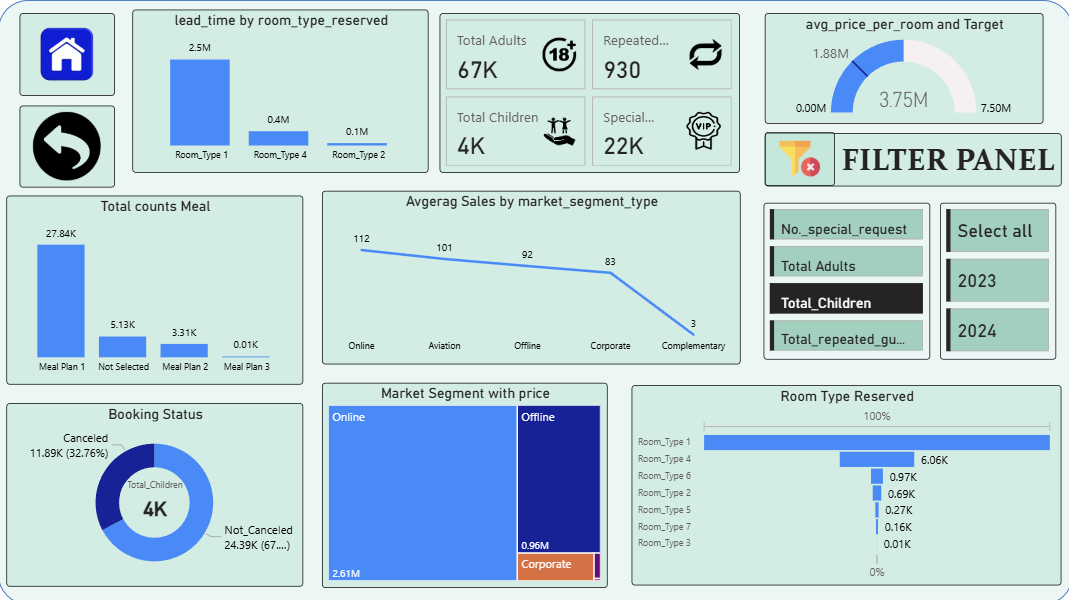

The page's visual inventory and layout, read from the dashboard file:
{"tool":"powerbi","page":{"name":"Inventory Analysis","canvas":[1280,720],"ordinal":2},"visuals":[{"type":"shape","box":[0,0,1280,720],"z":0},{"type":"columnChart","title":"Total counts Meal","fields":{"Category":["Sheet1.type_of_meal_plan"],"Y":["CountNonNull(Sheet1.type_of_meal_plan)"]},"box":[10,233.3,353.3,225],"z":1000},{"type":"cardVisual","fields":{"Data":["Sheet1.Total Adults","Sheet1.Total_repeated_guest","Sheet1.Total_Children","Sheet1.No._special_request"]},"box":[525.7,15.7,357.1,190],"z":2000},{"type":"funnel","title":"Room Type Reserved","fields":{"Category":["Sheet1.room_type_reserved"],"Y":["CountNonNull(Sheet1.room_type_reserved)"]},"box":[754.3,458.6,511.4,238.6],"z":3000},{"type":"lineChart","fields":{"Y":["Sheet1.Avgerag Sales"],"Category":["Sheet1.market_segment_type"]},"box":[385,226.7,498.3,206.7],"z":4000},{"type":"donutChart","title":"Booking Status","fields":{"Category":["Sheet1.booking_status"],"Y":["CountNonNull(Sheet1.booking_status)"]},"box":[10,480,353.3,218.3],"z":5000},{"type":"treemap","title":"Market Segment with price","fields":{"Group":["Sheet1.market_segment_type"],"Values":["Sum(Sheet1.avg_price_per_room)"]},"box":[385.7,455.7,340,244.3],"z":6000},{"type":"advancedSlicerVisual","fields":{"Values":["Sheet1.arrival_year"]},"box":[1121.7,241.7,138.3,186.7],"z":7000},{"type":"advancedSlicerVisual","fields":{"Values":["Parameter.Parameter"]},"box":[911.7,241.7,198.3,186.7],"z":8000},{"type":"cardVisual","fields":{"Data":["Sheet1.Total_Children"]},"box":[131.5,551.5,111.5,86.2],"z":9000},{"type":"textbox","box":[913.3,158.3,353.3,63.3],"z":10000},{"type":"image","box":[912.4,157.8,83.4,64.2],"z":11000},{"type":"clusteredColumnChart","title":"lead_time by room_type_reserved","fields":{"Y":["Sum(Sheet1.lead_time)"],"Category":["Sheet1.room_type_reserved"]},"box":[160,11.4,352.9,194.3],"z":12000},{"type":"gauge","title":"avg_price_per_room and Target","fields":{"TargetValue":["Sum(Sheet1.Target)"],"Y":["Sum(Sheet1.avg_price_per_room)"]},"box":[913.3,15,331.7,131.7],"z":13000},{"type":"image","box":[25,15,113.3,98.3],"z":14000},{"type":"image","box":[25.3,125.3,112.9,97.6],"z":15000}]}

Visuals, with their boxes in screenshot pixels (x1, y1, x2, y2), scaled from the page's 1280x720 canvas onto the 1069x600 screenshot:
shape: {"x1": 0, "y1": 0, "x2": 1068, "y2": 599}
"Total counts Meal" columnChart: {"x1": 8, "y1": 194, "x2": 303, "y2": 382}
cardVisual - Sheet1.Total Adults x Sheet1.Total_repeated_guest: {"x1": 439, "y1": 13, "x2": 737, "y2": 171}
"Room Type Reserved" funnel: {"x1": 630, "y1": 382, "x2": 1057, "y2": 581}
lineChart - Sheet1.Avgerag Sales x Sheet1.market_segment_type: {"x1": 322, "y1": 189, "x2": 738, "y2": 361}
"Booking Status" donutChart: {"x1": 8, "y1": 400, "x2": 303, "y2": 582}
"Market Segment with price" treemap: {"x1": 322, "y1": 380, "x2": 606, "y2": 583}
advancedSlicerVisual - Sheet1.arrival_year: {"x1": 937, "y1": 201, "x2": 1052, "y2": 357}
advancedSlicerVisual - Parameter.Parameter: {"x1": 761, "y1": 201, "x2": 927, "y2": 357}
cardVisual - Sheet1.Total_Children: {"x1": 110, "y1": 460, "x2": 203, "y2": 531}
textbox: {"x1": 763, "y1": 132, "x2": 1058, "y2": 185}
image: {"x1": 762, "y1": 132, "x2": 832, "y2": 185}
"lead_time by room_type_reserved" clusteredColumnChart: {"x1": 134, "y1": 10, "x2": 428, "y2": 171}
"avg_price_per_room and Target" gauge: {"x1": 763, "y1": 12, "x2": 1040, "y2": 122}
image: {"x1": 21, "y1": 12, "x2": 116, "y2": 94}
image: {"x1": 21, "y1": 104, "x2": 115, "y2": 186}
